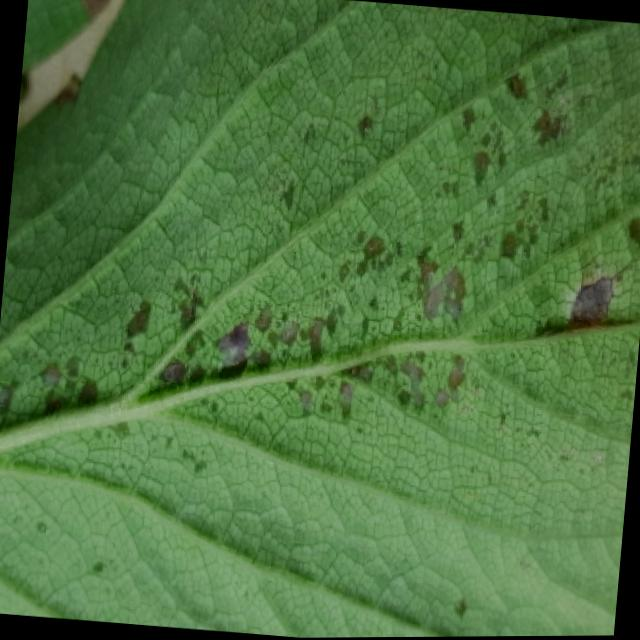Angular Leafspot: (0, 6, 640, 638)
